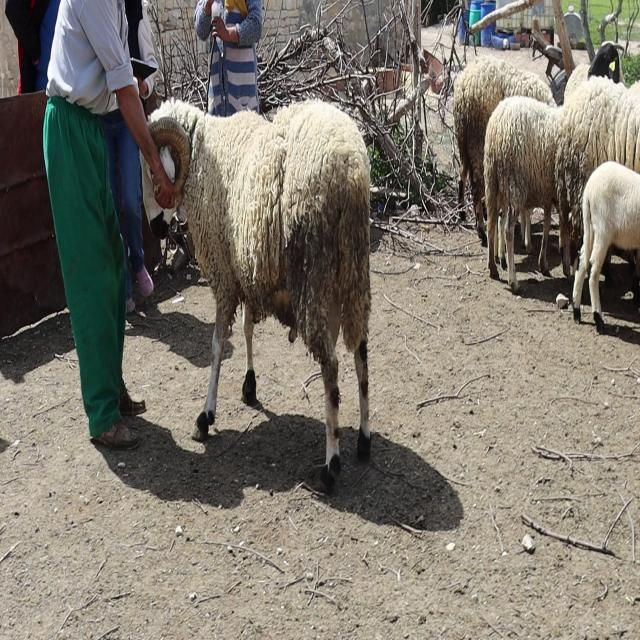Score_5: (142, 100, 371, 492)
